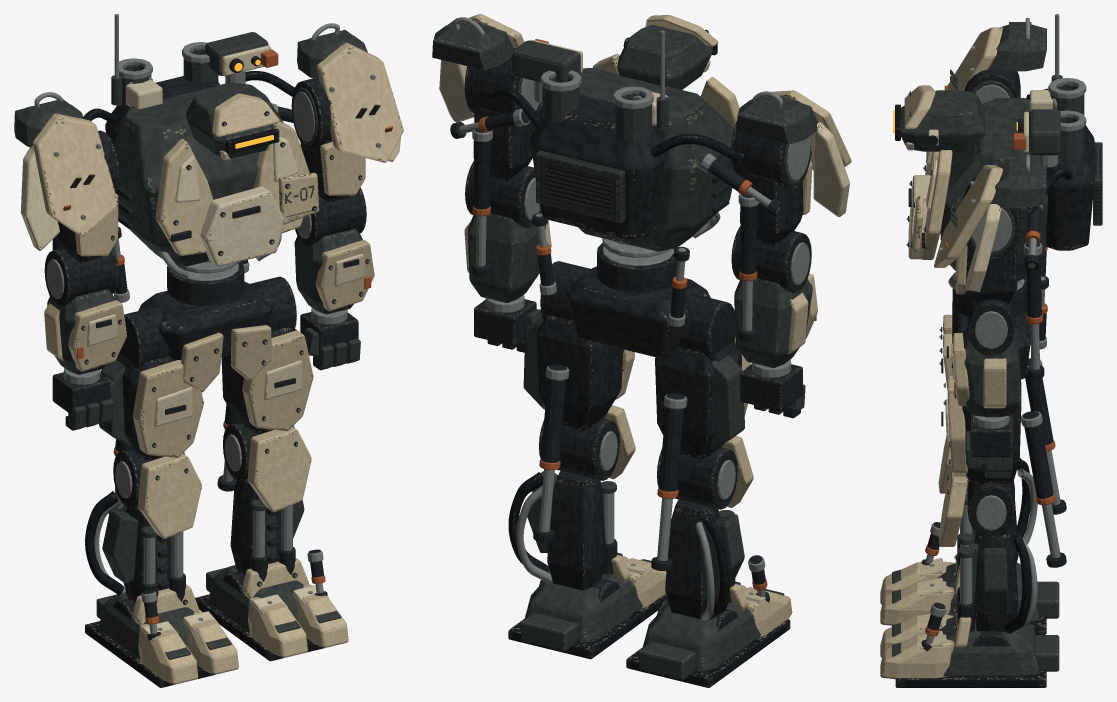
Rendered from kestrel.glb.
3 renders of one model, left to right at view 1: azimuth 30°, elevation 25°; view 2: azimuth 150°, elevation 25°; view 3: azimuth 270°, elevation 25°, orthographic. The views are drawn at different scales.
Visible parts, largest first — view 1: spine.geometry, knee.R.geometry, pauldron.R.geometry, knee.L.geometry, hip.R.geometry, ankle.L.geometry, ankle.R.geometry, pauldron.L.geometry, elbow.R.geometry, pelvis.geometry, hip.L.geometry, elbow.L.geometry (+5 smaller); view 2: spine.geometry, knee.L.geometry, knee.R.geometry, hip.R.geometry, ankle.R.geometry, ankle.L.geometry, hip.L.geometry, elbow.R.geometry, elbow.L.geometry, pelvis.geometry, pauldron.R.geometry, shoulder.R.geometry (+17 smaller); view 3: spine.geometry, knee.L.geometry, ankle.L.geometry, elbow.L.geometry, pauldron.L.geometry, ankle.R.geometry, neck.geometry, pauldron.R.geometry, shoulder.L.geometry, hip.L.geometry, knee.R.geometry, wrist.L.geometry (+11 smaller).
Boxes of the visible parts, x1,y1,x2,y2 form: spine.geometry: (83, 14, 319, 305); knee.R.geometry: (85, 449, 201, 603); pauldron.R.geometry: (14, 92, 118, 250); knee.L.geometry: (223, 422, 311, 581); hip.R.geometry: (99, 307, 203, 460); ankle.L.geometry: (195, 558, 348, 661); ankle.R.geometry: (85, 584, 238, 687); pauldron.L.geometry: (297, 23, 403, 162); elbow.R.geometry: (44, 248, 126, 374); pelvis.geometry: (138, 281, 273, 392); hip.L.geometry: (221, 276, 313, 433); elbow.L.geometry: (294, 187, 374, 314); spine.geometry: (488, 30, 743, 292); knee.L.geometry: (508, 405, 635, 590); knee.R.geometry: (657, 436, 753, 621); hip.R.geometry: (655, 293, 750, 458); ankle.R.geometry: (626, 581, 792, 687); ankle.L.geometry: (508, 552, 666, 659); hip.L.geometry: (523, 261, 634, 429); elbow.R.geometry: (731, 226, 817, 367); elbow.L.geometry: (464, 161, 551, 302); pelvis.geometry: (565, 266, 710, 358); pauldron.R.geometry: (736, 90, 851, 216); shoulder.R.geometry: (731, 120, 812, 245); spine.geometry: (906, 14, 1102, 316); knee.L.geometry: (938, 467, 1037, 633); ankle.L.geometry: (880, 607, 1059, 687); elbow.L.geometry: (946, 296, 1021, 417); pauldron.L.geometry: (934, 154, 1046, 296); ankle.R.geometry: (880, 554, 1059, 634); neck.geometry: (895, 85, 984, 151); pauldron.R.geometry: (944, 17, 1046, 90); shoulder.L.geometry: (954, 177, 1020, 303); hip.L.geometry: (941, 376, 1021, 484); knee.R.geometry: (938, 436, 1037, 571); wrist.L.geometry: (965, 413, 1012, 472).
Size of the model in its own units: 4.26 by 6.54 by 2.19.
Materials: 3 (1 with a texture image).
